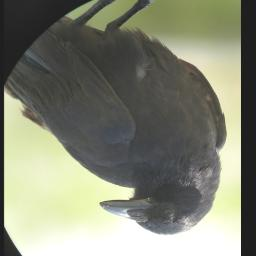Crow: (6, 0, 228, 236)
